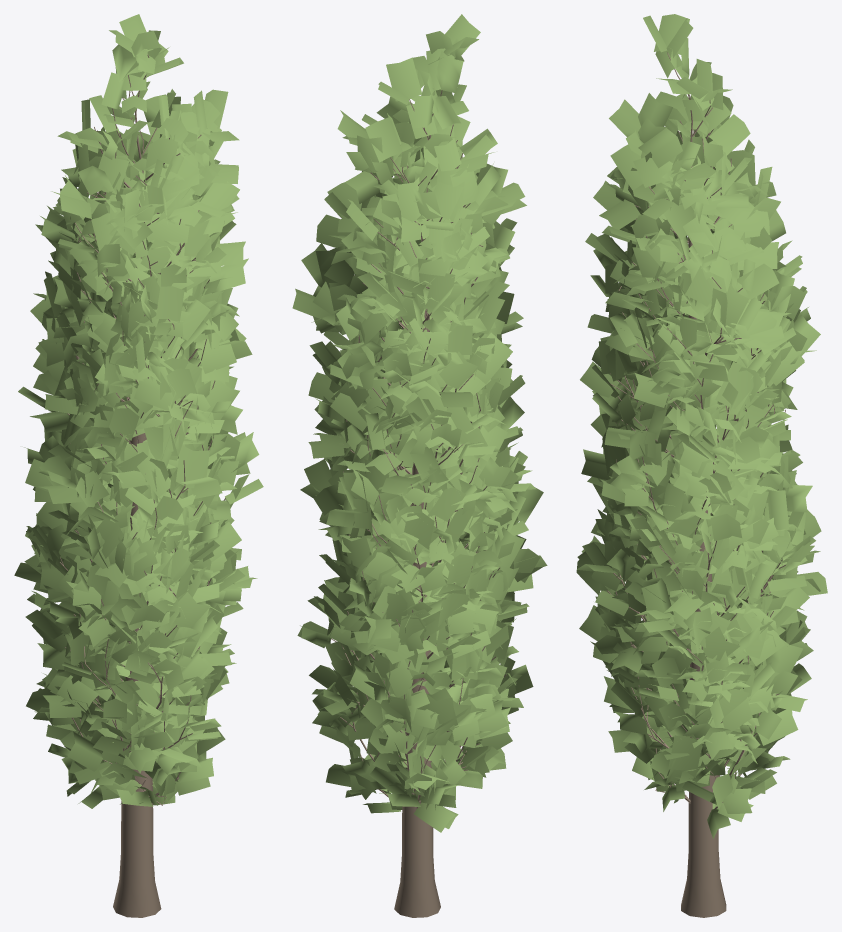
Rendered from Poplar_2_lod0.glb.
The picture shows the model from 3 angles, left to right: view 1: azimuth 30°, elevation 25°; view 2: azimuth 150°, elevation 25°; view 3: azimuth 270°, elevation 25°; orthographic projection. The views are drawn at different scales.
Parts seen in each view (by area): view 1: Poplar_2_lod0; view 2: Poplar_2_lod0; view 3: Poplar_2_lod0.
Part boxes in pixels (x1,y1,x2,y2): Poplar_2_lod0: (14,14,263,917); Poplar_2_lod0: (292,14,547,917); Poplar_2_lod0: (576,14,827,917).
Bounding box in the file's own units: 5.9 × 23.32 × 6.03.
